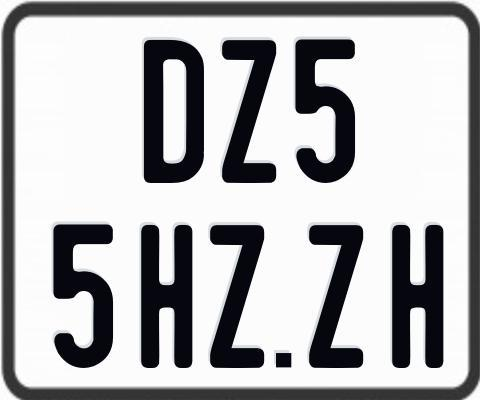5: (51, 223, 114, 372), (293, 36, 355, 181)
D: (143, 40, 205, 189)
H: (389, 223, 444, 372), (138, 222, 189, 365)
Z: (309, 224, 367, 373), (220, 37, 274, 182), (207, 225, 261, 369)
